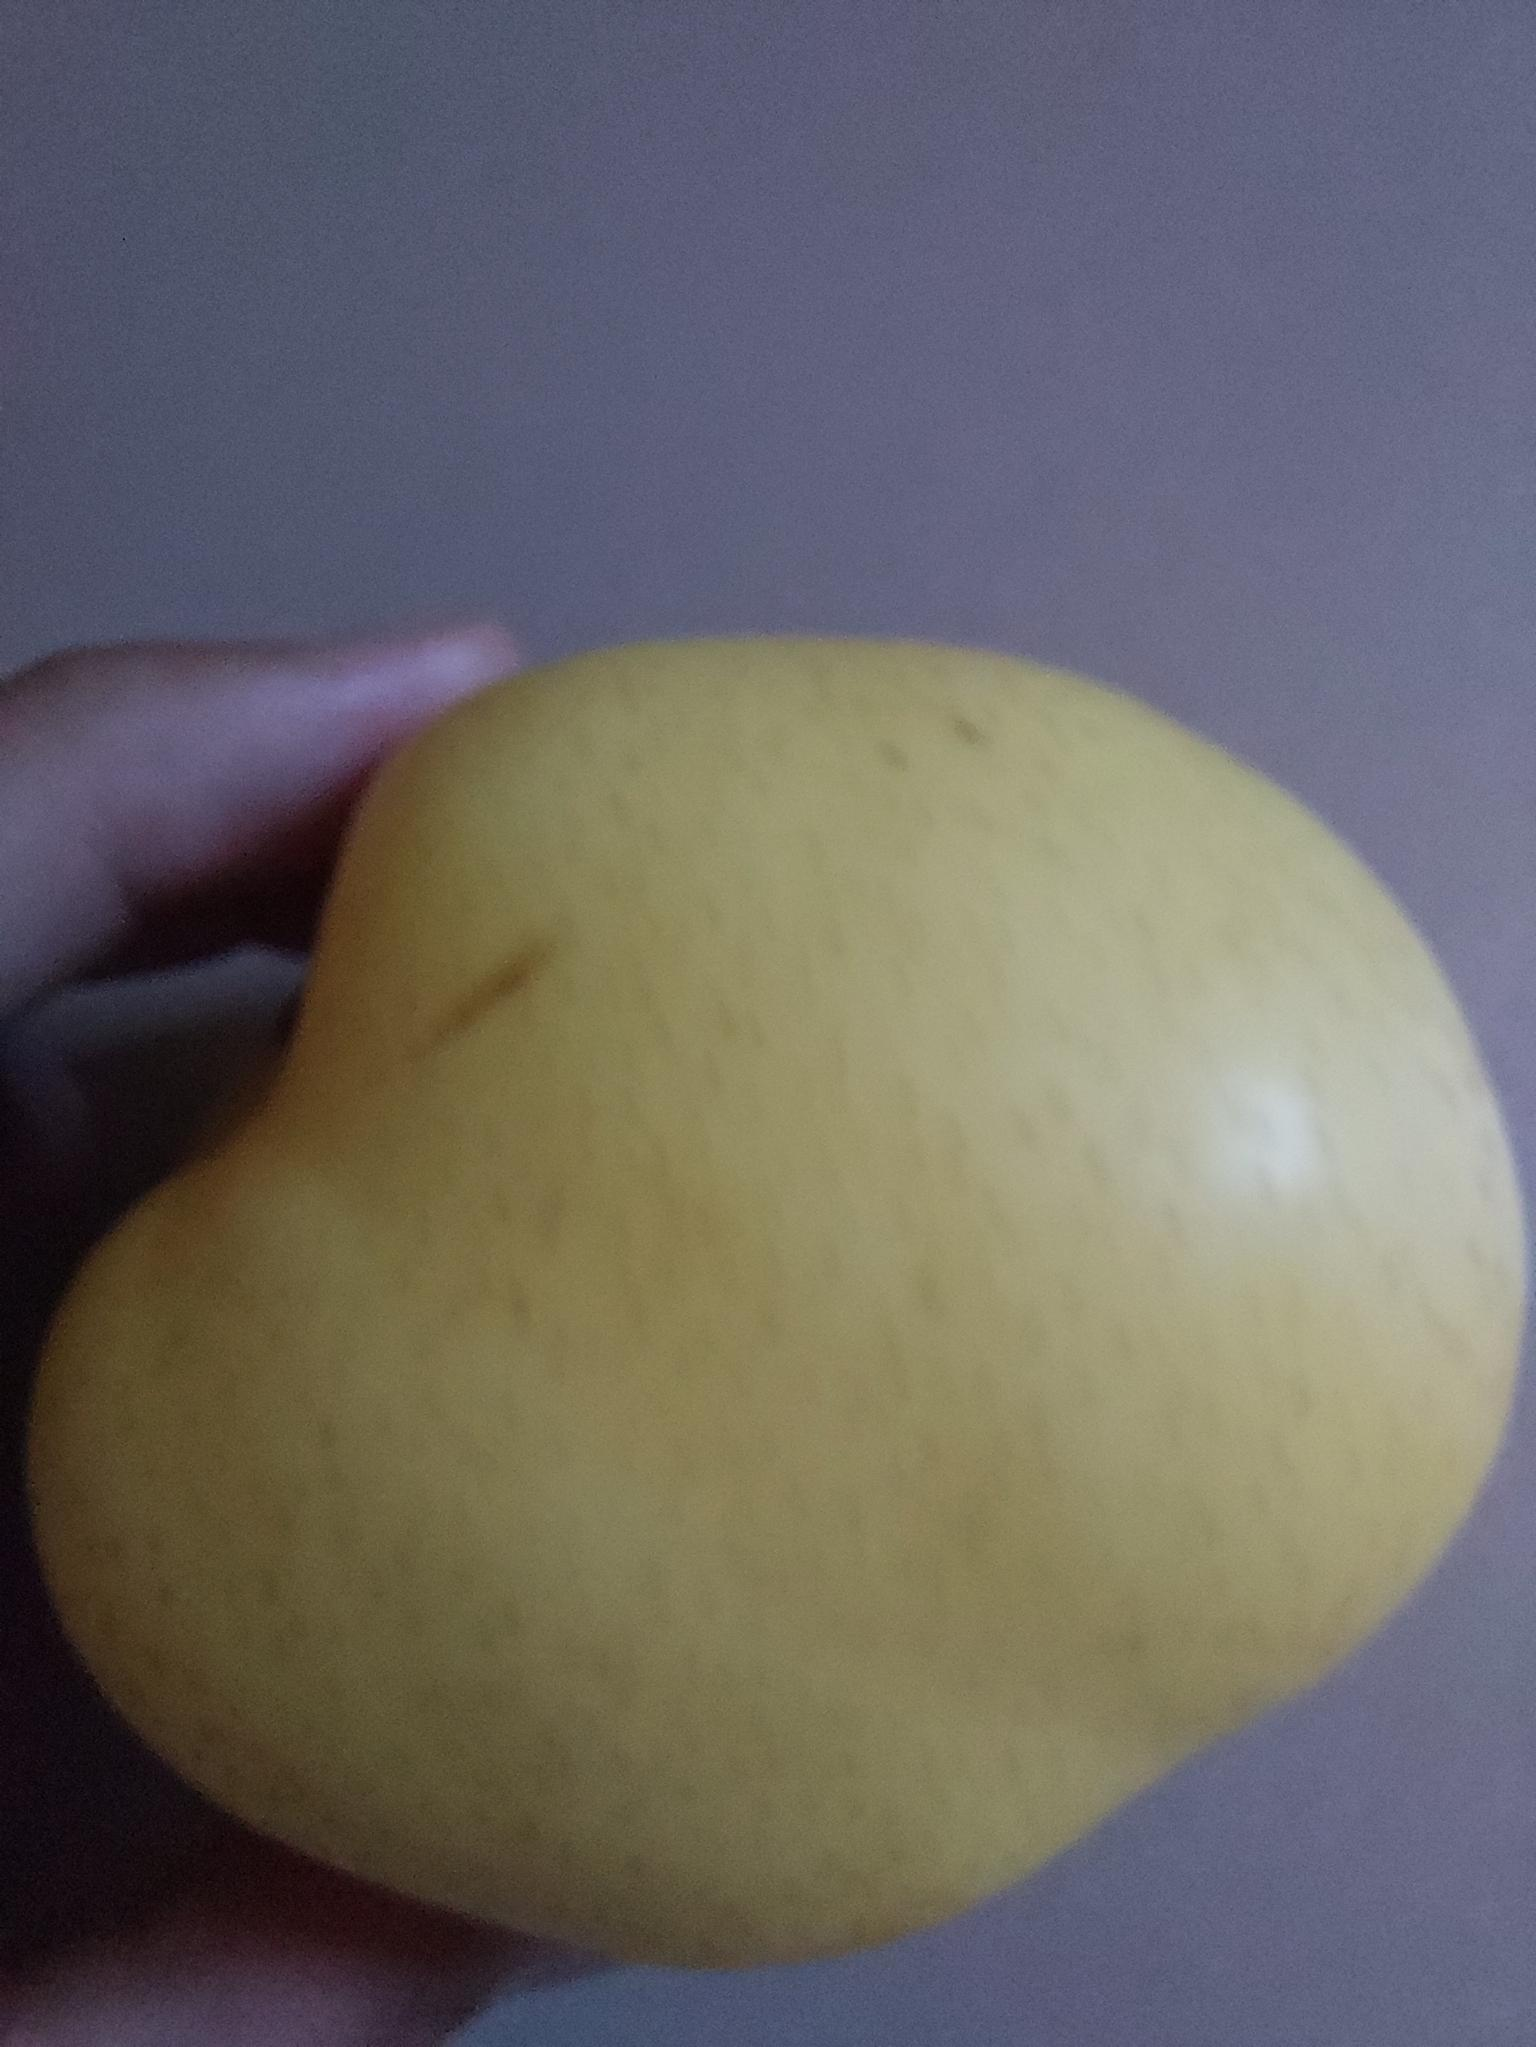Good Pear: (32, 624, 1536, 1994)
